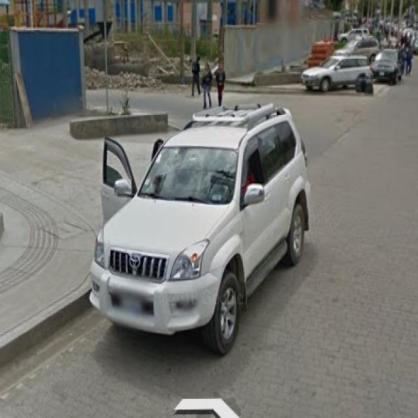car: (91, 107, 311, 349)
